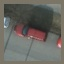car: (14, 18, 48, 47)
